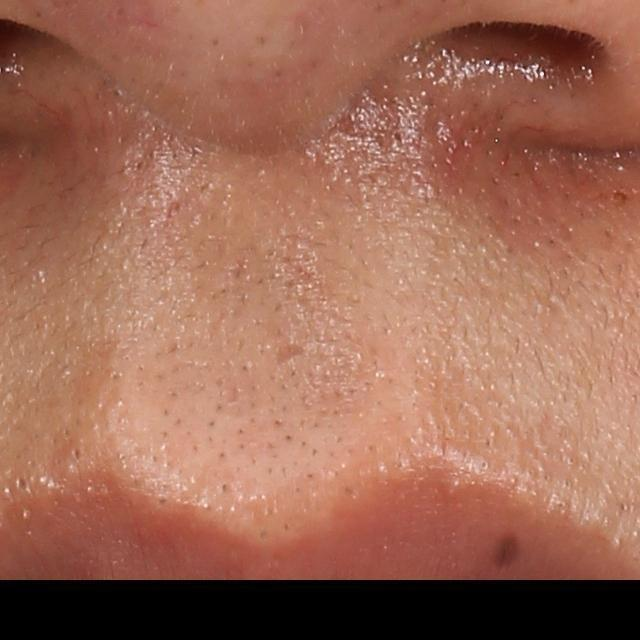atrophic_scar: (274, 342, 306, 371)
comedo: (15, 473, 31, 495)
nevus: (493, 535, 525, 569)
